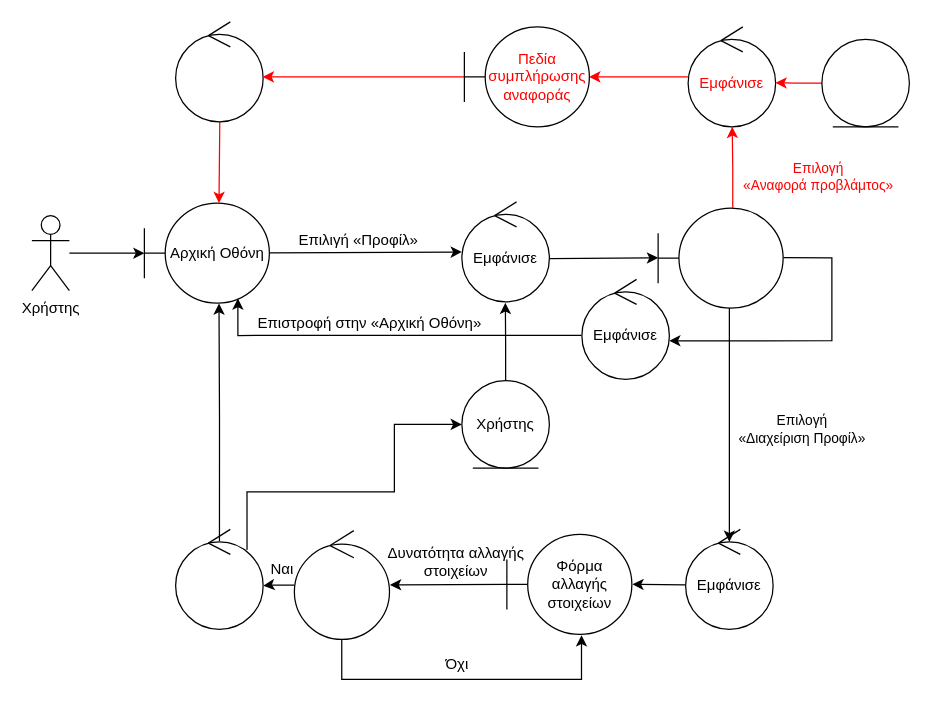
Image size: 931x711. Some labels were removed from this diagram. Each missing label, with the centre of its shape:
Έλεγχος εγκυρότητας: the point at 341,584
Αναφορά: the point at 865,82
Δημιουργία email και αποστολή: the point at 218,71
Ενμέρωση: the point at 218,578
Σελίδα Προφίλ: the point at 720,257
